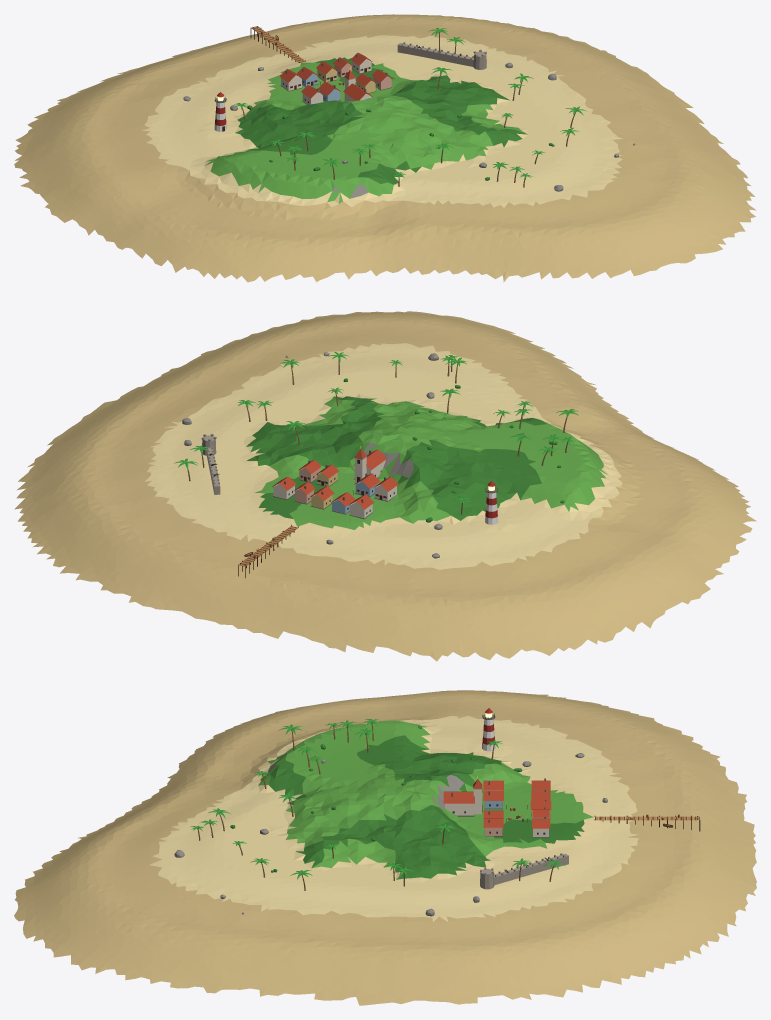
File: Island_Port.fbx
3 renders of one model, top to bottom at view 1: azimuth 30°, elevation 25°; view 2: azimuth 150°, elevation 25°; view 3: azimuth 270°, elevation 25°, orthographic. The views are drawn at different scales.
Parts seen in each view (by area): view 1: Terrain, Fort, Church, Dock; view 2: Terrain, Church, Fort; view 3: Terrain, Fort, Church, Dock.
Part boxes in pixels (box(x1,y1,x2,y2)): Terrain: box(14, 14, 756, 282); Fort: box(397, 42, 486, 69); Church: box(343, 67, 372, 101); Dock: box(250, 26, 305, 62); Terrain: box(14, 311, 756, 661); Church: box(353, 446, 386, 483); Fort: box(201, 433, 220, 494); Terrain: box(14, 690, 756, 1005); Fort: box(480, 853, 568, 889); Church: box(443, 776, 482, 816); Dock: box(594, 814, 700, 831).
Size of the model in its own units: 282 by 33.68 by 282.
